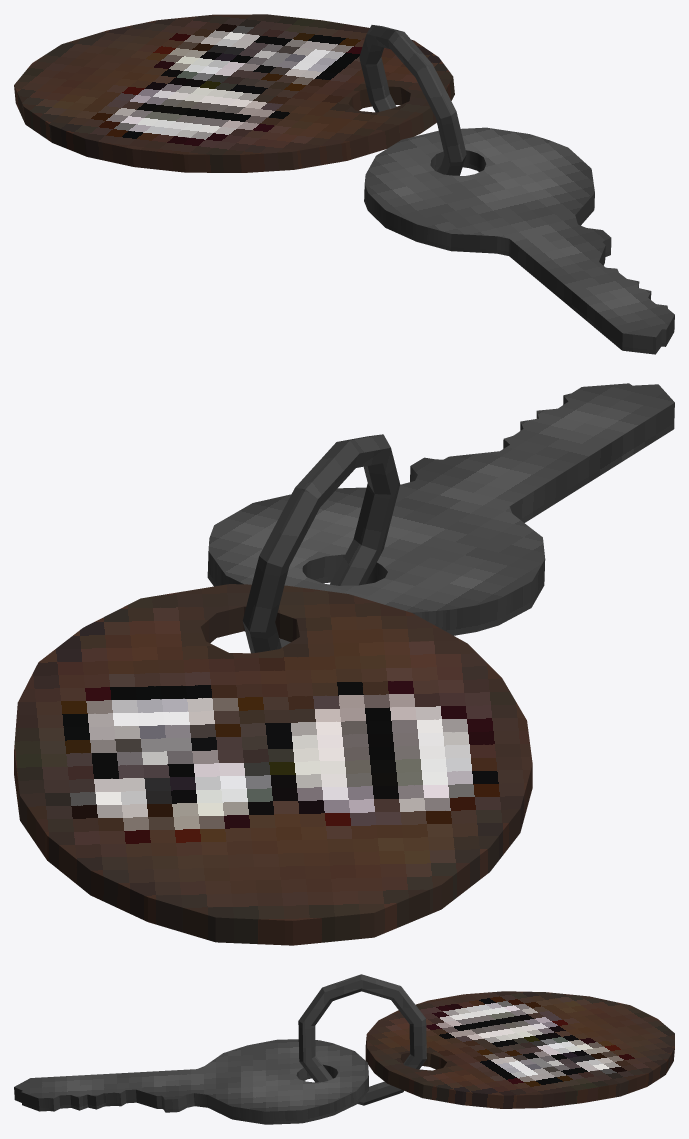
File: key_mp_2_2.glb
3 renders of one model, top to bottom at view 1: azimuth 30°, elevation 25°; view 2: azimuth 150°, elevation 25°; view 3: azimuth 270°, elevation 25°, orthographic. The views are drawn at different scales.
Parts seen in each view (by area): view 1: key_mp_2_2; view 2: key_mp_2_2; view 3: key_mp_2_2.
Boxes of the visible parts, left/top/right/bottom form: key_mp_2_2: left=14, top=14, right=674, bottom=354; key_mp_2_2: left=14, top=383, right=674, bottom=945; key_mp_2_2: left=14, top=974, right=674, bottom=1124.
Size of the model in its own units: 0.0623 by 0.027 by 0.137.
1 material, 1 textured.
